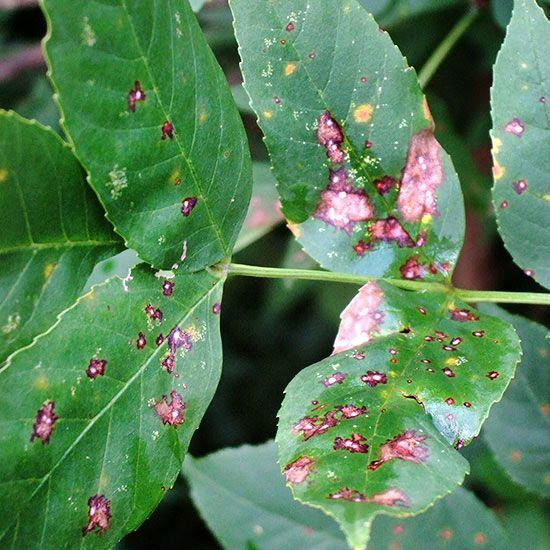Apple rust leaf: (226, 3, 479, 296), (4, 269, 248, 550), (268, 289, 510, 550), (95, 42, 247, 272)
